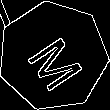M_NE: (19, 23, 87, 89)
